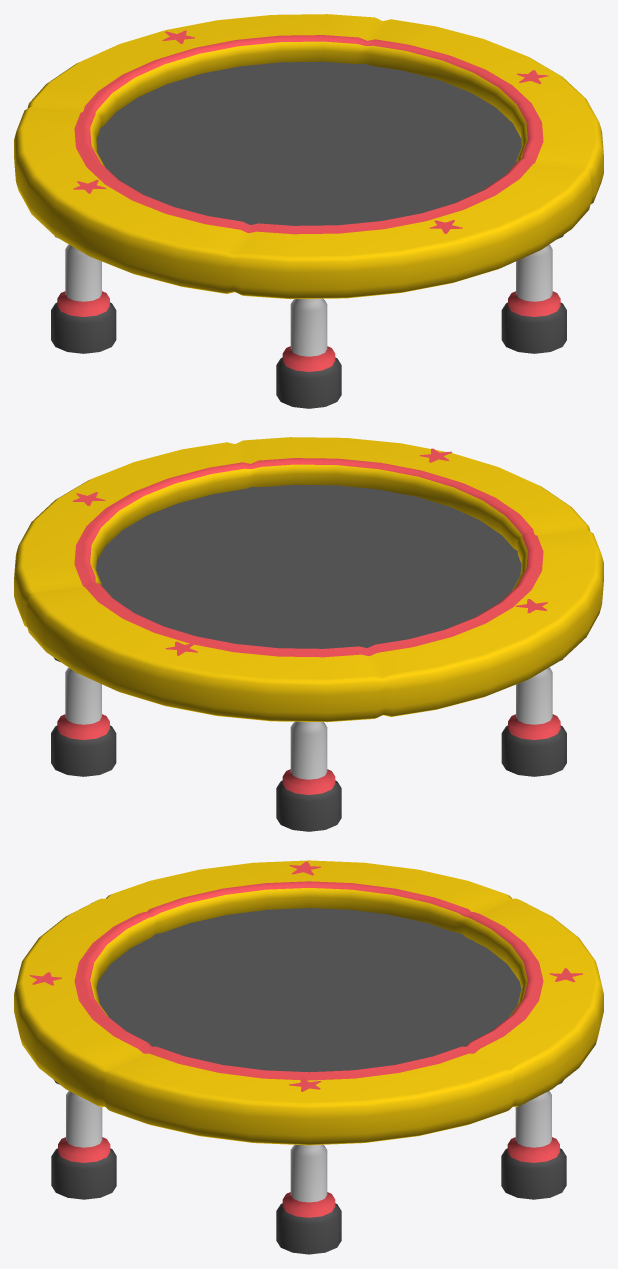
File: Trampoline.obj
3 renders of one model, top to bottom at view 1: azimuth 30°, elevation 25°; view 2: azimuth 150°, elevation 25°; view 3: azimuth 270°, elevation 25°, orthographic.
Visible parts, largest first — view 1: Trampoline; view 2: Trampoline; view 3: Trampoline.
Boxes of the visible parts, x1,y1,x2,y2 form: Trampoline: (14,14,603,408); Trampoline: (14,437,603,831); Trampoline: (14,860,603,1254).
Bounding box in the file's own units: 1.83 × 0.529 × 1.83.
1 material, 1 textured.
